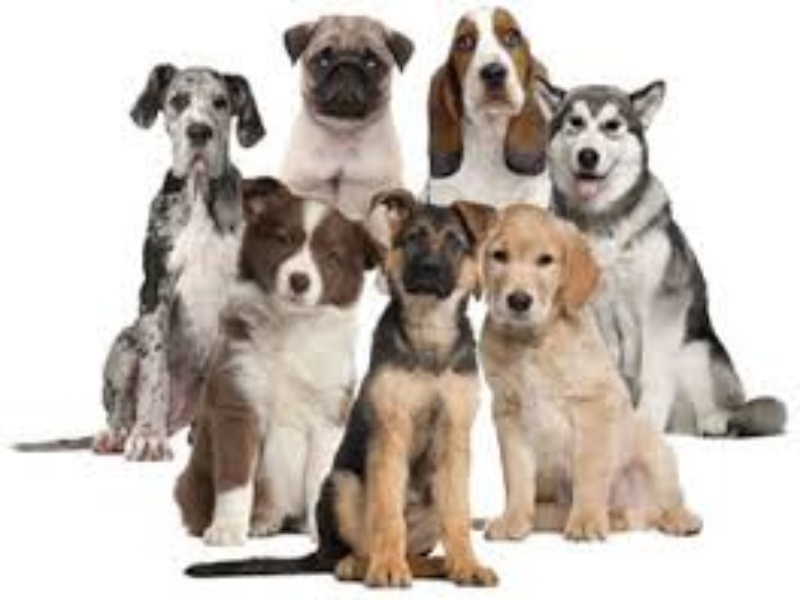dog: (481, 207, 709, 547), (355, 180, 500, 599), (205, 177, 364, 549), (270, 7, 419, 184), (417, 6, 557, 186), (116, 42, 266, 177), (537, 56, 673, 204)
